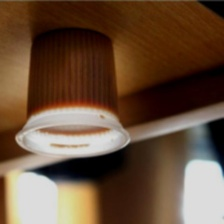glass: (11, 24, 130, 165)
